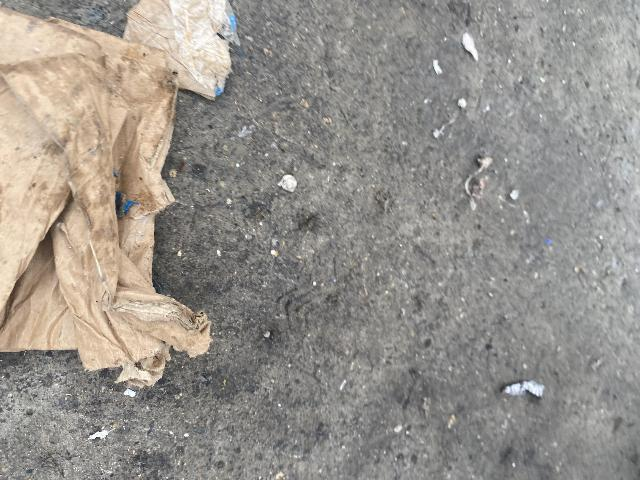Kagit: (0, 0, 262, 379), (494, 375, 559, 406)
